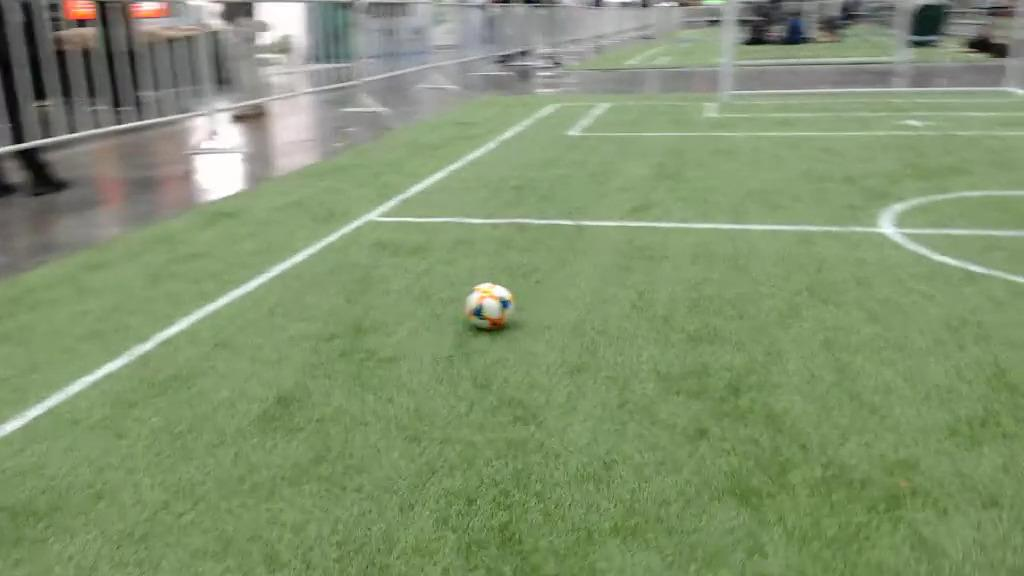ball: (464, 281, 513, 333)
